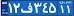character: (21, 1, 33, 16), (33, 1, 43, 16), (12, 1, 20, 16), (49, 1, 57, 16), (66, 4, 74, 16), (43, 1, 49, 16), (59, 4, 65, 16), (8, 2, 13, 16)
